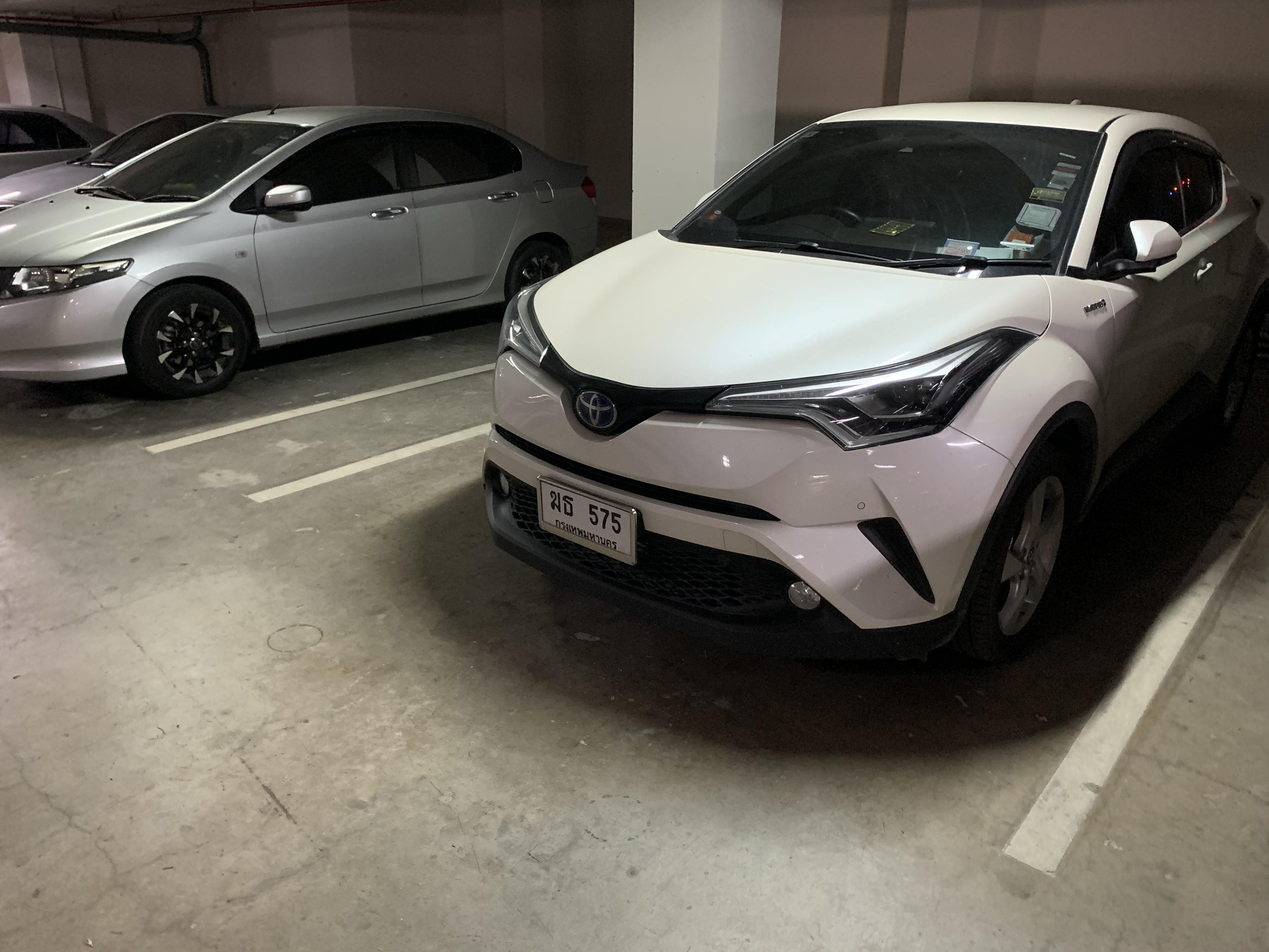license-plate: (536, 477, 642, 571)
